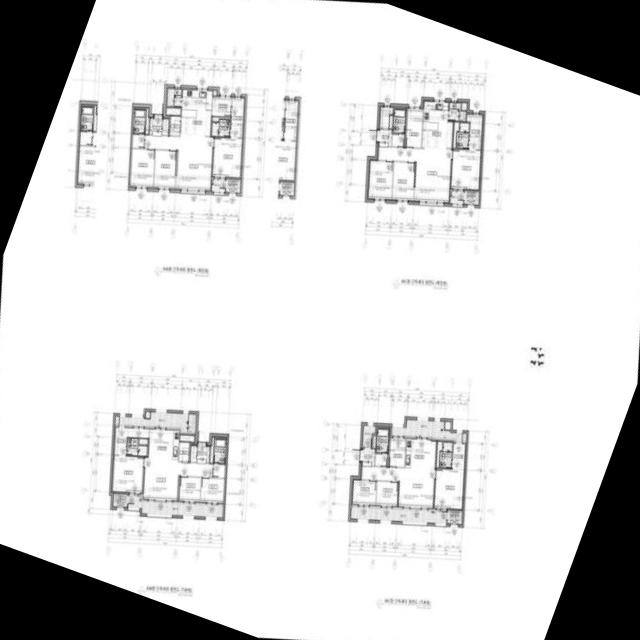background: (0, 0, 640, 640)
space_balconi: (128, 495, 223, 517), (391, 419, 466, 442), (115, 411, 196, 432), (351, 506, 447, 523), (449, 102, 466, 121), (362, 425, 375, 447), (167, 88, 182, 107), (450, 190, 464, 204), (212, 179, 225, 192)
space_bedroom: (212, 124, 242, 177), (434, 468, 463, 509), (451, 149, 480, 189), (112, 455, 143, 492), (368, 160, 393, 199), (130, 148, 155, 187), (392, 161, 414, 200), (154, 150, 176, 188), (200, 477, 224, 502), (352, 480, 376, 505), (179, 476, 201, 501), (376, 481, 398, 506)
space_dressroom: (114, 427, 149, 456), (452, 443, 465, 470), (231, 97, 244, 124), (467, 114, 482, 135)
space_front: (362, 448, 375, 466), (379, 129, 392, 147), (196, 446, 209, 463), (149, 118, 162, 135)
space_kitchen: (180, 89, 212, 136), (422, 101, 453, 149), (405, 438, 436, 469), (148, 429, 179, 459)
space_living_room: (378, 147, 451, 202), (145, 135, 213, 190), (361, 466, 434, 508), (143, 457, 212, 500)
space_other: (406, 108, 423, 147), (389, 437, 405, 467), (212, 96, 231, 116), (380, 107, 393, 128), (179, 442, 189, 461), (170, 116, 180, 135), (132, 134, 144, 148), (213, 464, 225, 477), (375, 453, 387, 466), (436, 441, 442, 467), (469, 136, 481, 149), (453, 122, 459, 148), (392, 134, 404, 146), (166, 107, 181, 115), (162, 118, 169, 135), (190, 445, 197, 461), (210, 437, 214, 462), (145, 108, 149, 133), (180, 435, 194, 441), (212, 117, 230, 121), (389, 115, 393, 128), (445, 421, 451, 429), (461, 103, 467, 110), (139, 439, 147, 444), (373, 435, 376, 447), (146, 411, 150, 417), (213, 90, 216, 95)
space_outdoor_room: (447, 510, 462, 524), (113, 493, 127, 507), (464, 191, 479, 204), (226, 179, 240, 192)
space_toilet: (127, 438, 147, 455), (456, 122, 469, 148), (376, 428, 389, 452), (212, 119, 230, 136), (440, 442, 452, 467), (214, 439, 226, 463), (393, 109, 405, 133), (133, 109, 145, 133)
